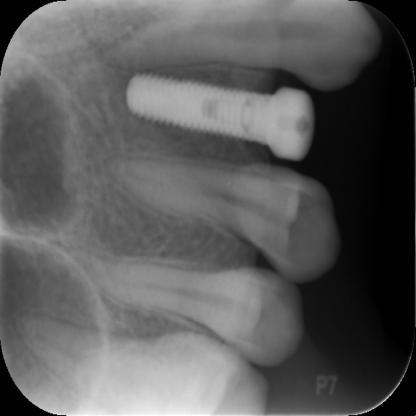Bego: (120, 65, 271, 147)
